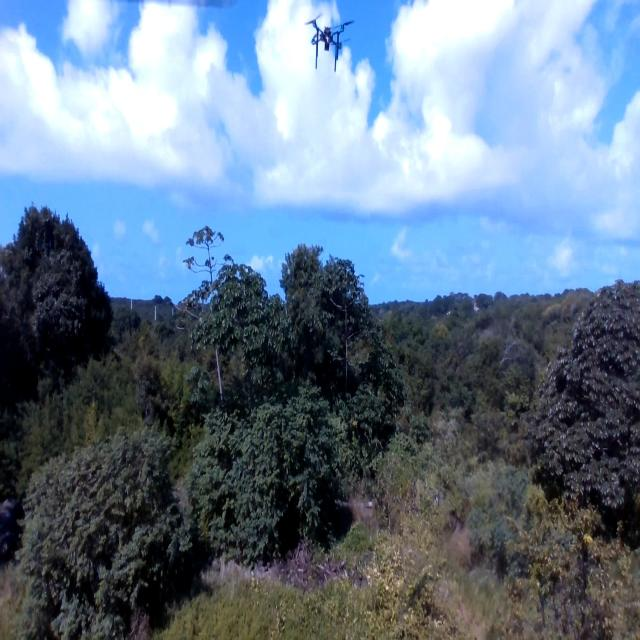-uav-: (301, 6, 358, 80)
